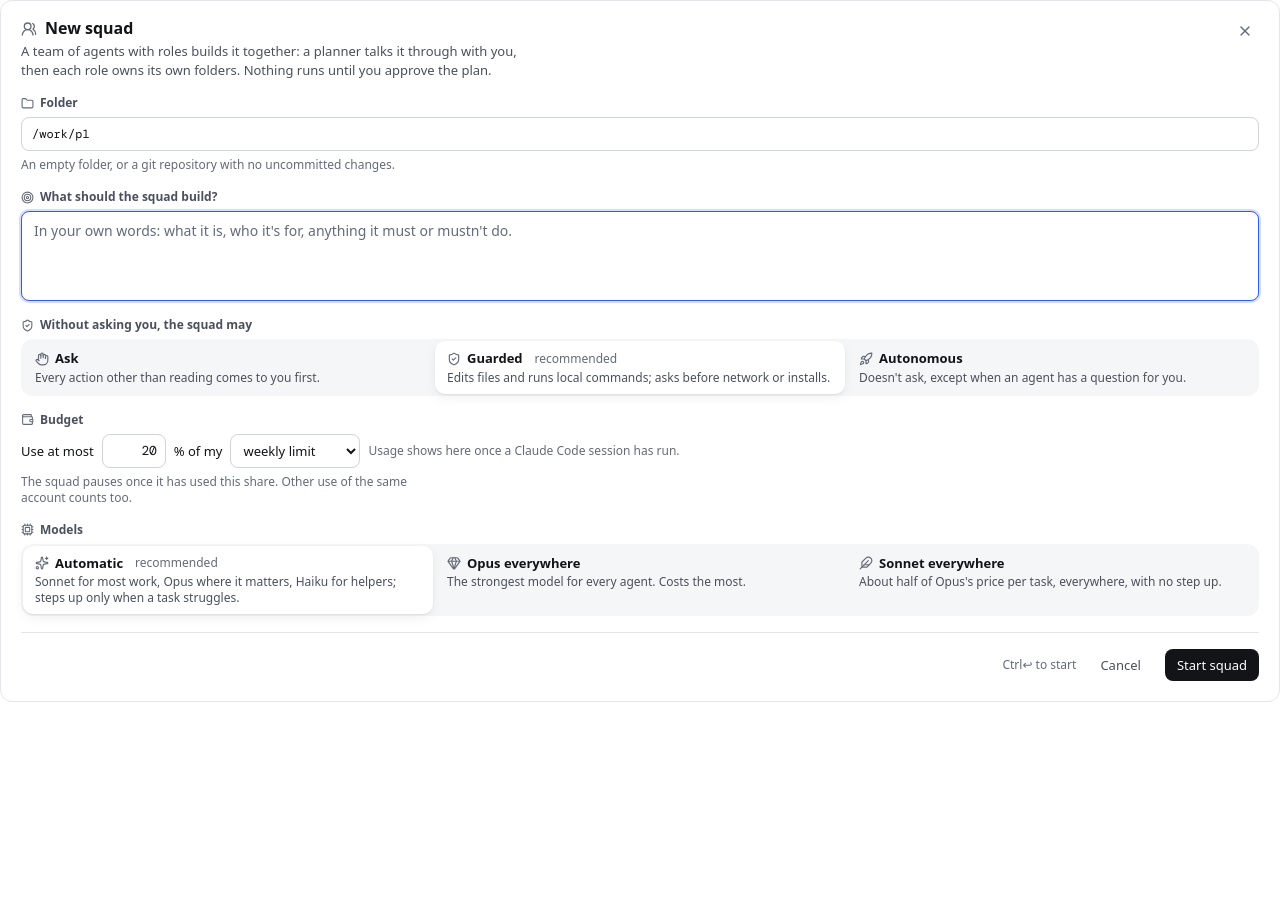
NewSquadPanel › explains a dirty repository in plain words
The image size is (1280, 900).
Replace the text in the text box labelled "What should the squad build?" with "A todo app" at (640, 256), box [34,220,1246,292]
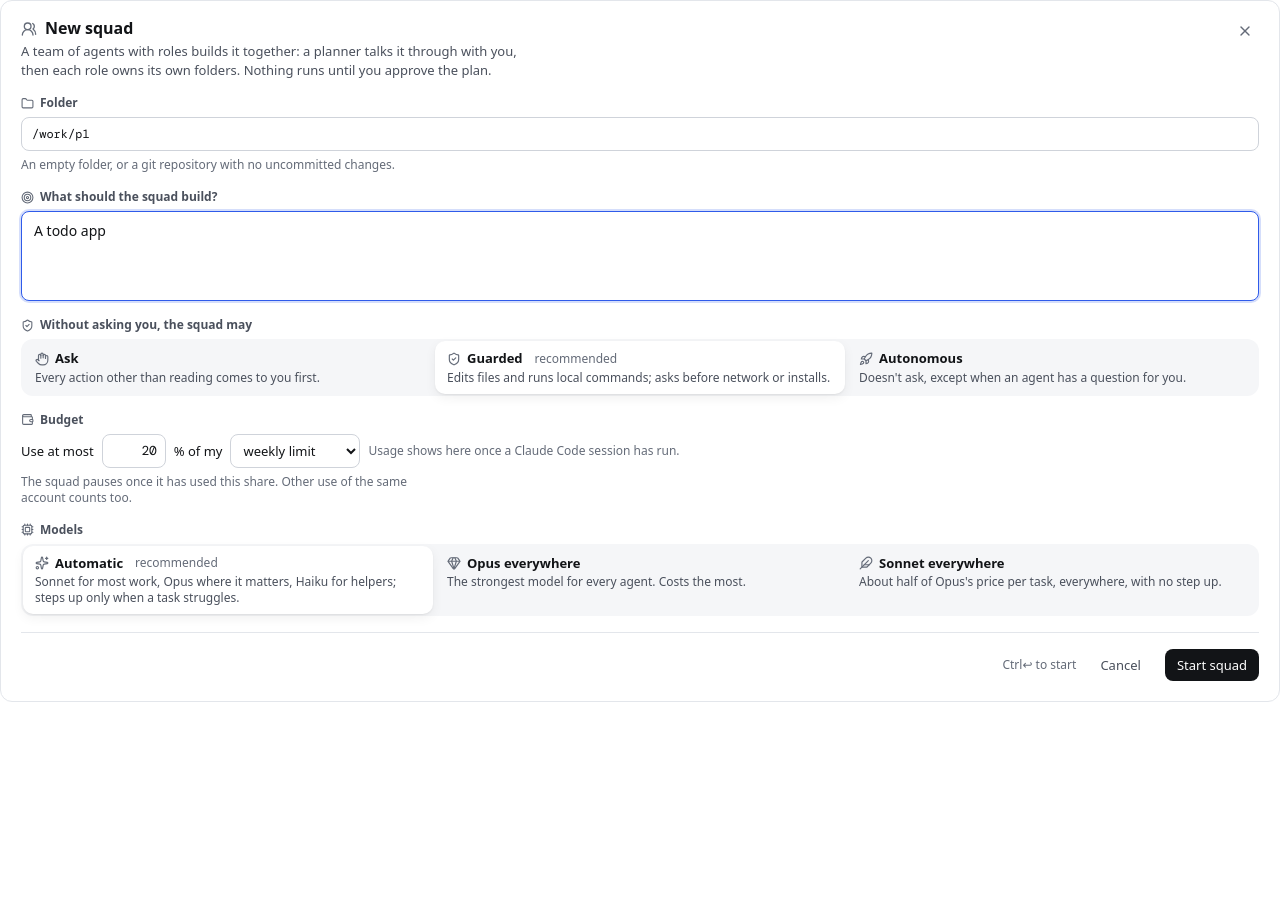
Click the button "Start squad" at (1212, 665), box [1165,649,1259,681]
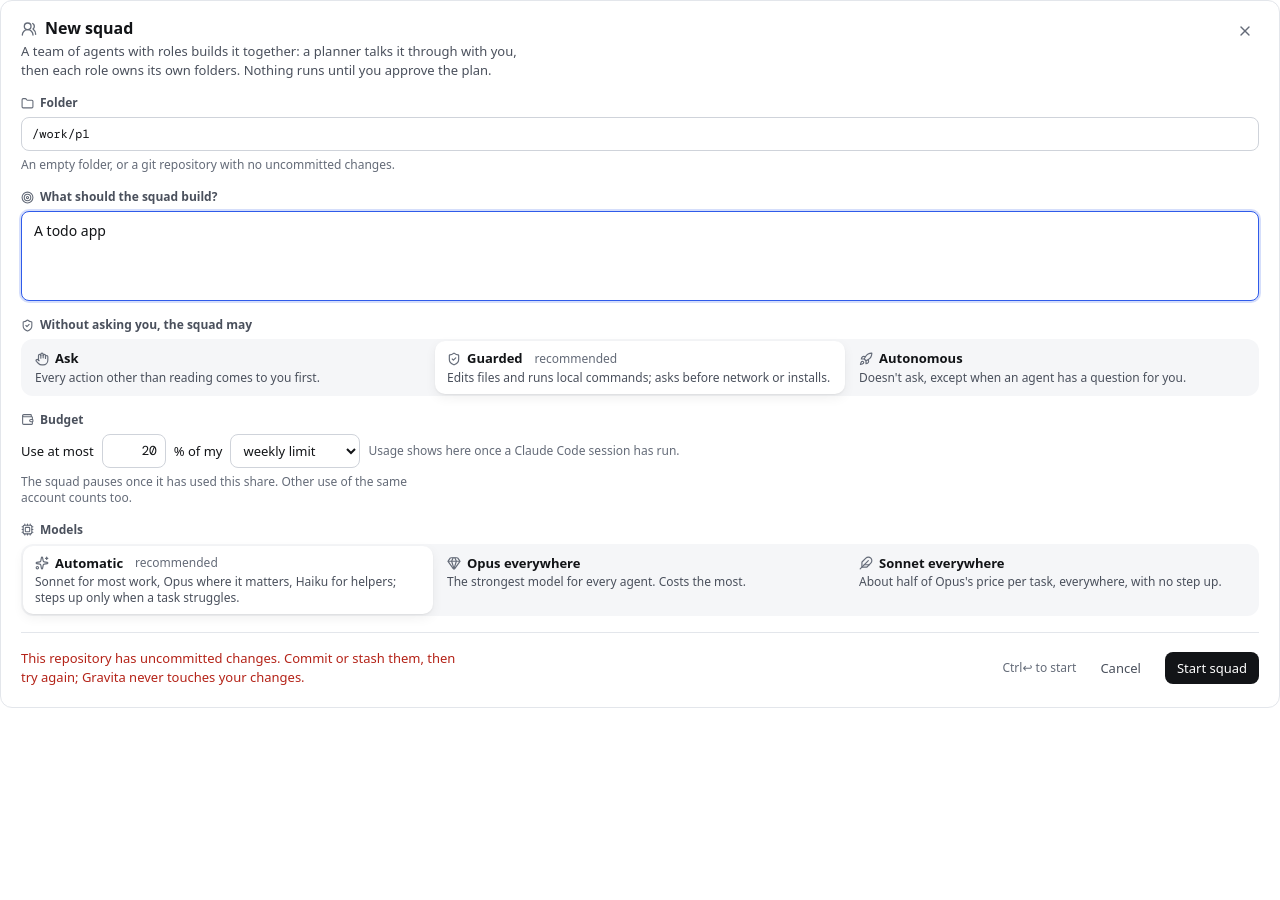
Result: the message shows "uncommitted changes" at [21,649,455,686]
